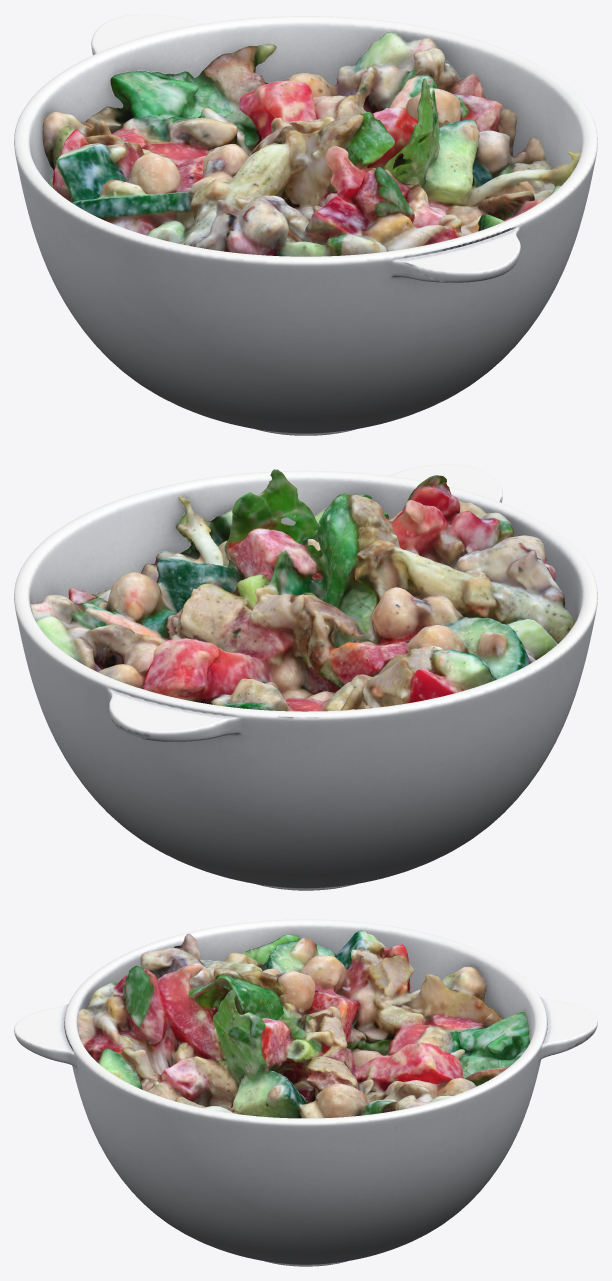
The model's file is salad.glb.
3 renders of one model, top to bottom at view 1: azimuth 30°, elevation 25°; view 2: azimuth 150°, elevation 25°; view 3: azimuth 270°, elevation 25°, orthographic. The views are drawn at different scales.
Parts seen in each view (by area): view 1: archmodels76_035_03, salad.002; view 2: archmodels76_035_03, salad.002; view 3: archmodels76_035_03, salad.002.
Boxes of the visible parts, box(x1,y1,x2,y2) form: archmodels76_035_03: box(14, 14, 597, 435); salad.002: box(42, 32, 581, 256); archmodels76_035_03: box(14, 464, 597, 890); salad.002: box(30, 469, 575, 711); archmodels76_035_03: box(14, 919, 597, 1266); salad.002: box(77, 930, 529, 1118).
Size of the model in its own units: 1.65 by 1.04 by 2.
Materials: 2 (2 with a texture image).
